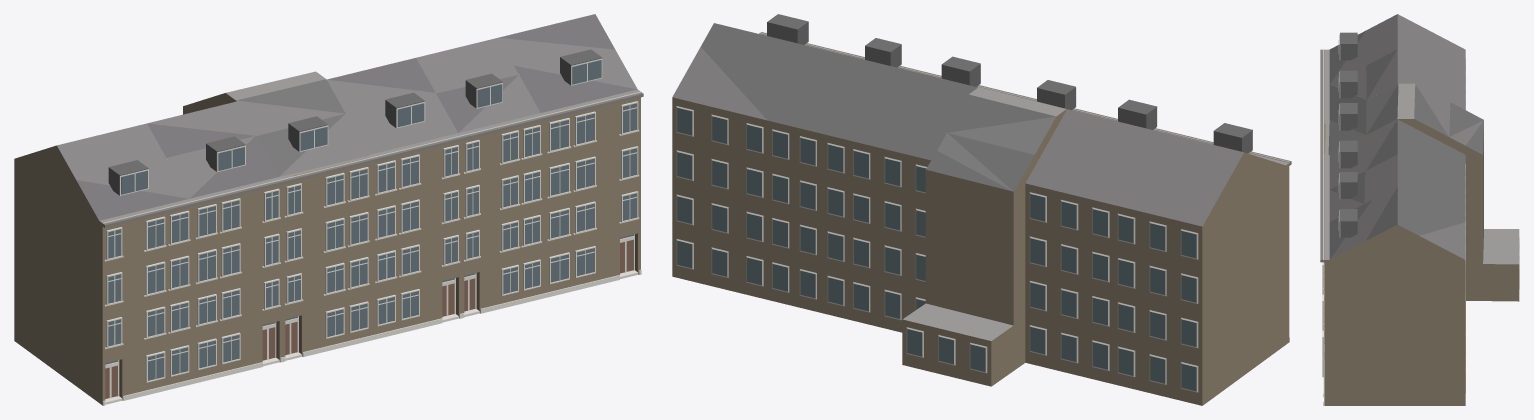
File: chunk-face-leijnsen-2-30-r1.glb
The picture shows the model from 3 angles, left to right: view 1: azimuth 30°, elevation 25°; view 2: azimuth 150°, elevation 25°; view 3: azimuth 270°, elevation 25°; orthographic projection. The views are drawn at different scales.
Parts seen in each view (by area): view 1: face-leijnsen-2-30-r1; view 2: face-leijnsen-2-30-r1; view 3: face-leijnsen-2-30-r1.
Part boxes in pixels (<box>): face-leijnsen-2-30-r1: <box>14,14,643,405</box>; face-leijnsen-2-30-r1: <box>672,14,1291,405</box>; face-leijnsen-2-30-r1: <box>1320,14,1519,405</box>.
Size of the model in its own units: 37.12 by 14.96 by 14.87.
